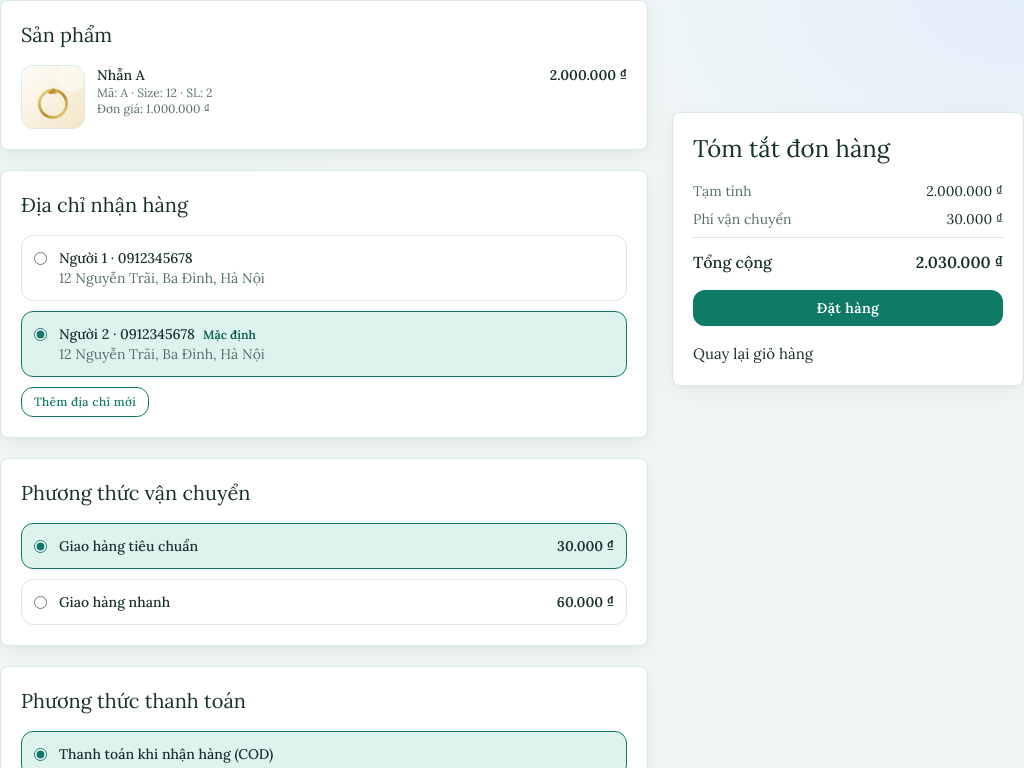
Test: CheckoutView › đổi vận chuyển thì gọi lại preview và hiện tổng mới từ API
Expected: the text "Nhẫn A" is shown, [97,66,145,84]
Expected: the button "Đặt hàng" is enabled, [693,290,1003,326]
Click the radio button labelled "Giao hàng nhanh 60.000 ₫".
click(40, 602)  # box [34,596,47,609]
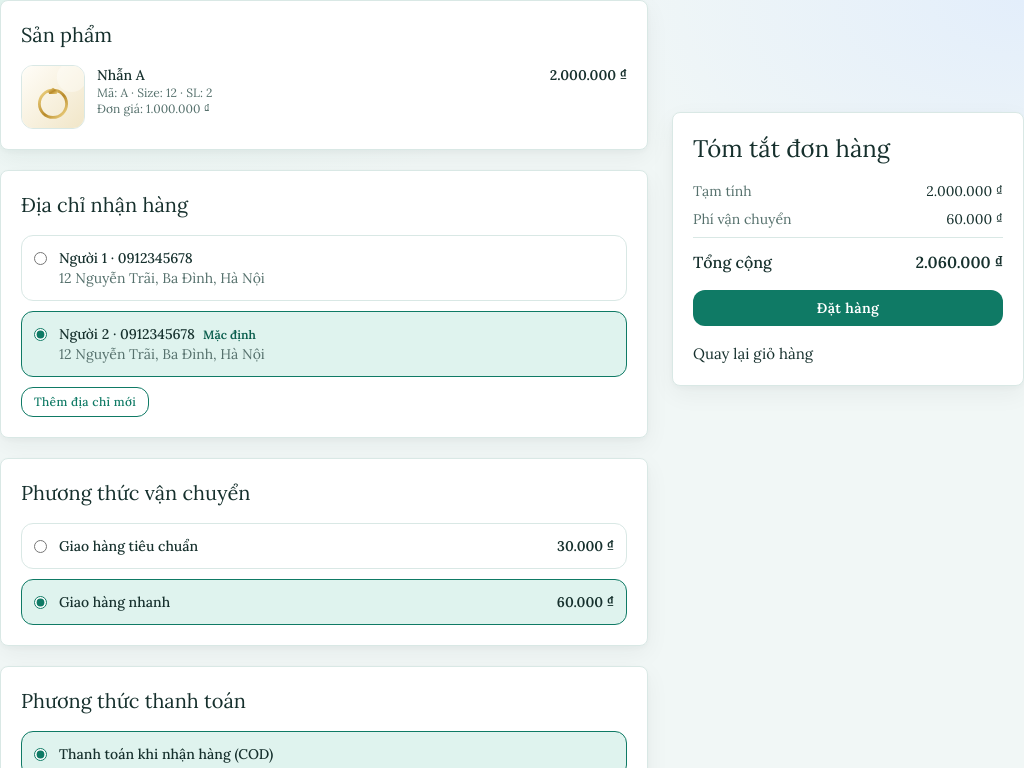
Result: the text with test id "total" shows "2.060.000" at [916,252,1003,272]
